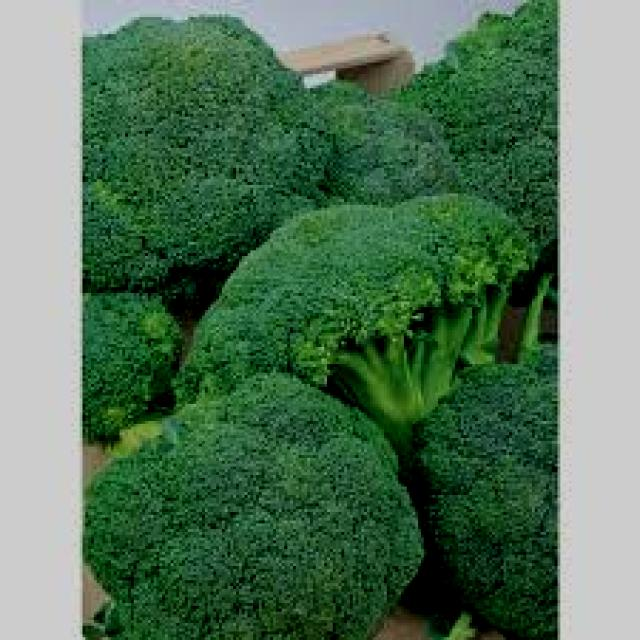broccoli: (190, 179, 532, 428), (57, 29, 342, 321), (115, 371, 399, 640), (336, 336, 602, 616), (301, 2, 557, 276)
